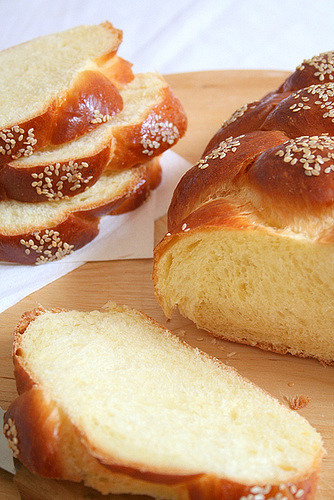slice of bread: (196, 151, 333, 356), (17, 70, 81, 261)
